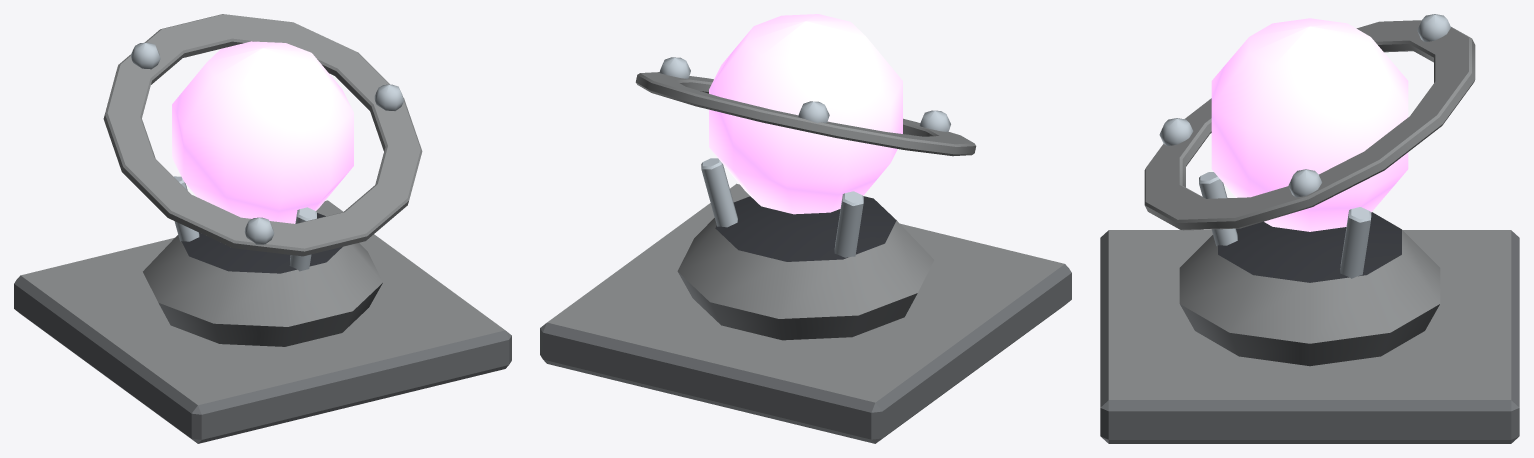
The model's file is R4X_OrbAmplifier_LOD1.glb.
3 views of the same model, side by side, from view 1: azimuth 30°, elevation 25°; view 2: azimuth 150°, elevation 25°; view 3: azimuth 270°, elevation 25° (orthographic). The views are drawn at different scales.
Visible parts, largest first — view 1: R4X_OrbAmplifier_LOD1; view 2: R4X_OrbAmplifier_LOD1; view 3: R4X_OrbAmplifier_LOD1.
Part boxes in pixels (x1,y1,x2,y2): R4X_OrbAmplifier_LOD1: (14, 14, 511, 443); R4X_OrbAmplifier_LOD1: (540, 14, 1071, 443); R4X_OrbAmplifier_LOD1: (1100, 14, 1519, 443).
Size of the model in its own units: 0.52 by 0.455 by 0.52.
